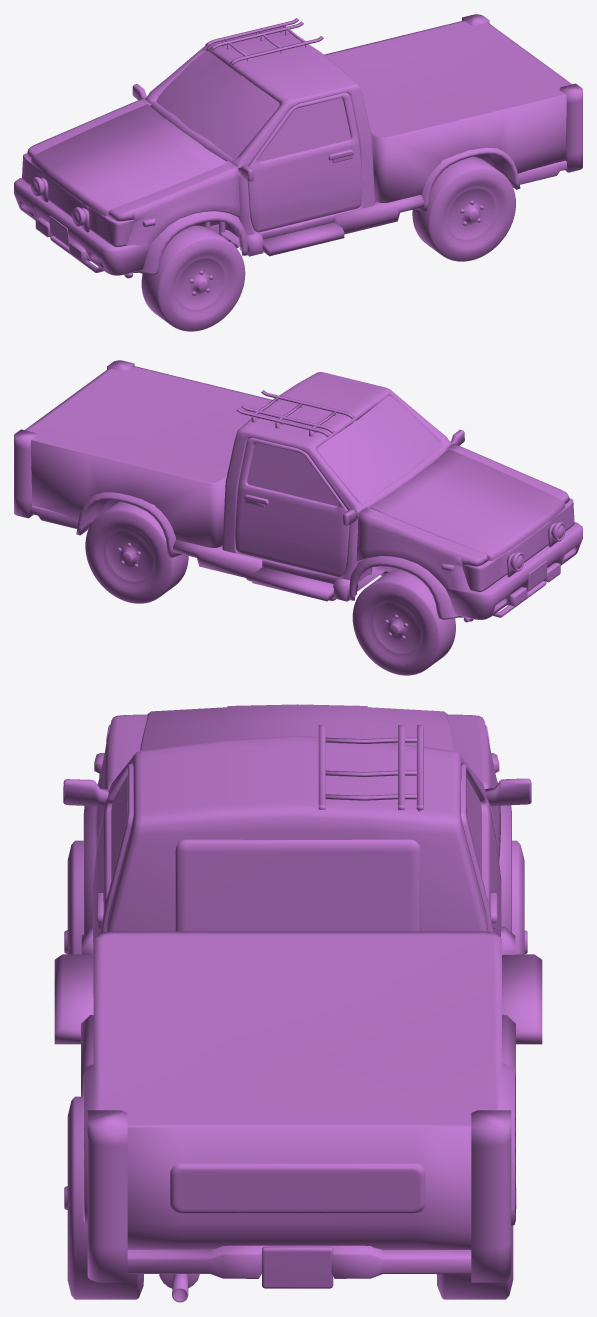
File: lo_Prop_Car_A.fbx
3 views of the same model, one above another, from view 1: azimuth 30°, elevation 25°; view 2: azimuth 150°, elevation 25°; view 3: azimuth 270°, elevation 25° (orthographic). The views are drawn at different scales.
Parts seen in each view (by area): view 1: lo_Prop_Car_A_LOD0; view 2: lo_Prop_Car_A_LOD0; view 3: lo_Prop_Car_A_LOD0.
Boxes of the visible parts, <box> form: lo_Prop_Car_A_LOD0: <box>14,14,582,331</box>; lo_Prop_Car_A_LOD0: <box>14,360,582,675</box>; lo_Prop_Car_A_LOD0: <box>54,704,542,1302</box>.
Size of what is drawn, in the model's own units: 6.28 by 2.52 by 2.73.
